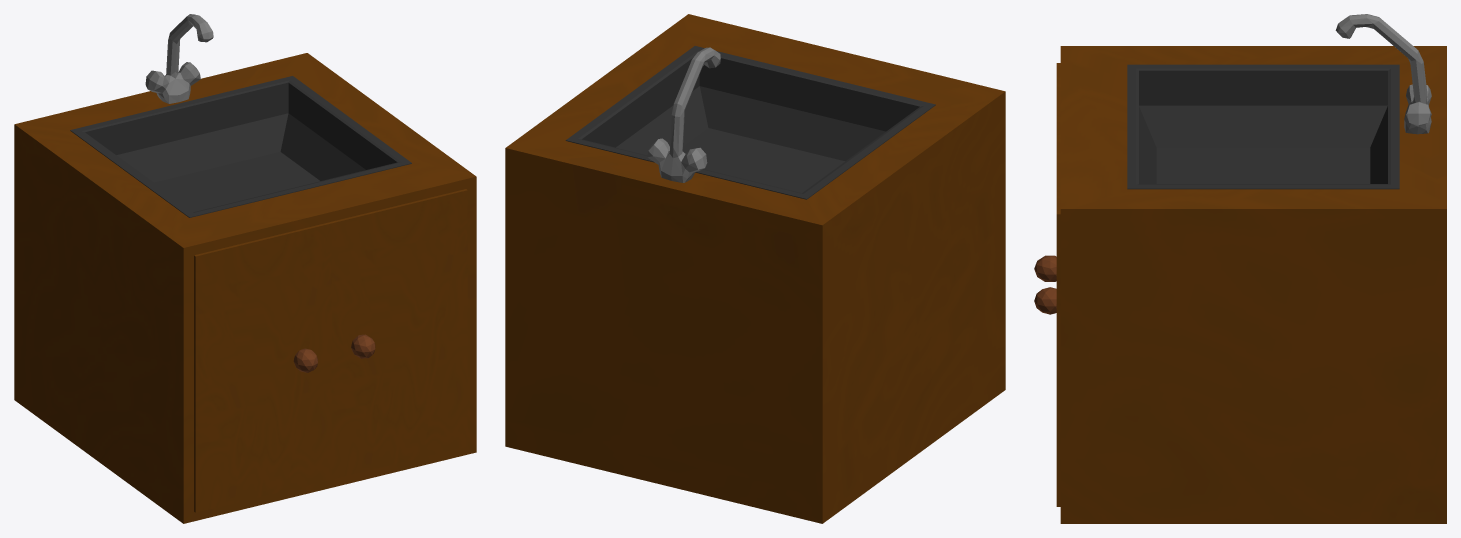
File: KitchenTable_3.fbx
3 renders of one model, left to right at view 1: azimuth 30°, elevation 25°; view 2: azimuth 150°, elevation 25°; view 3: azimuth 270°, elevation 25°, orthographic. The views are drawn at different scales.
Visible parts, largest first — view 1: Cube.020, Cube.042, Cube.043, Plane.009; view 2: Cube.020, Plane.009; view 3: Cube.020, Plane.009, Cube.043, Cube.042.
Boxes of the visible parts, x1,y1,x2,y2 form: Cube.020: (14,53,476,523); Cube.042: (194,222,331,512); Cube.043: (330,189,467,479); Plane.009: (145,14,213,103); Cube.020: (505,14,1005,523); Plane.009: (647,47,720,182); Cube.020: (1060,46,1446,523); Plane.009: (1335,14,1431,134); Cube.043: (1034,138,1060,506); Cube.042: (1034,63,1060,281).
Size of the model in its own units: 100 by 122 by 107.
